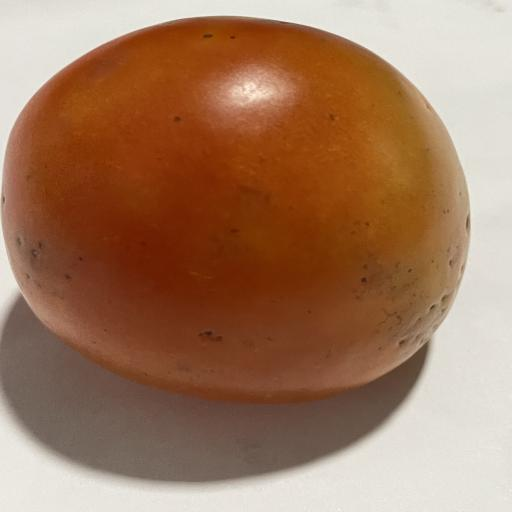ripe: (0, 17, 470, 402)
